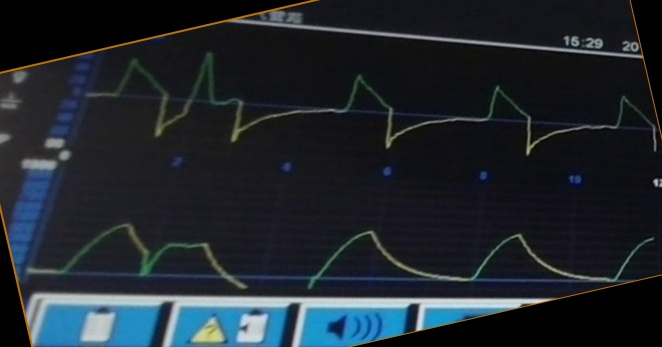Double_Triggering Flow: (87, 50, 657, 157)
Double_Triggering Volume: (30, 220, 654, 289)
